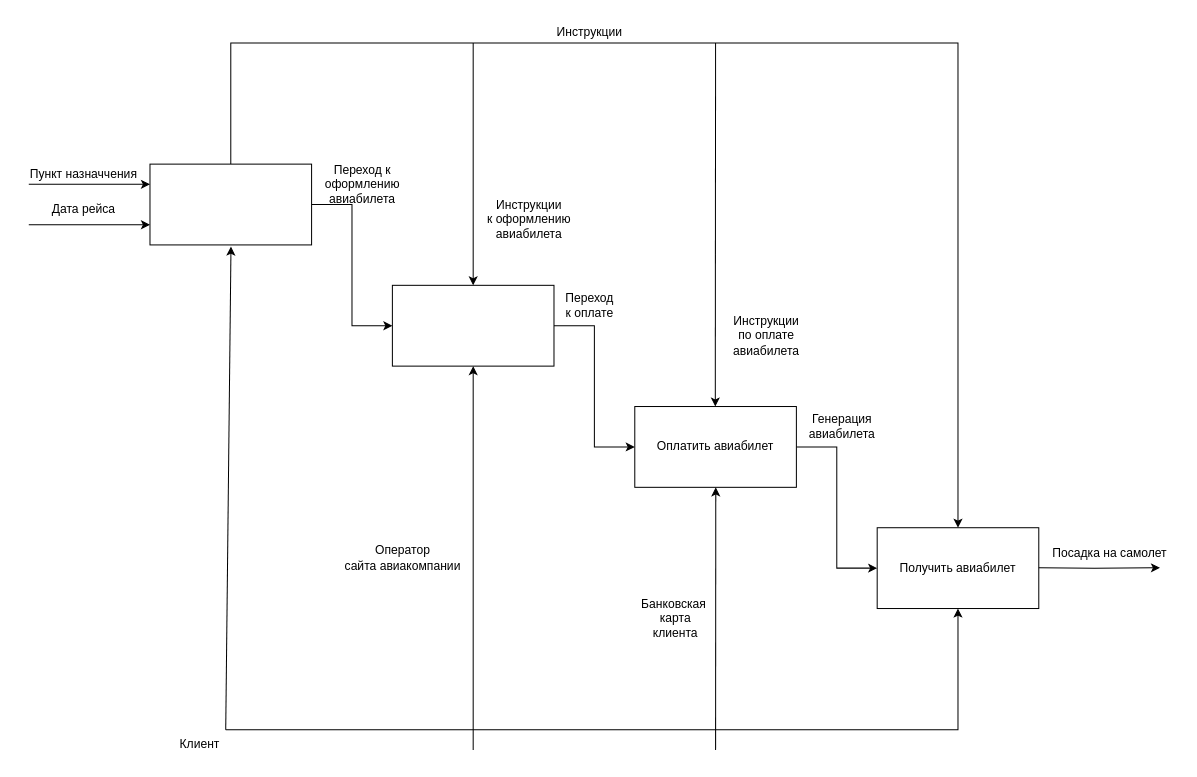
Some shapes in this 1197 by 777 pixel diagram are drawn without their labels. The shapes that lost their labels are listed below. From the top down, each one's centre as x and y in pixels, then its label:
At (x=230, y=204): "Выбрать рейс".
At (x=472, y=325): "Оформить авиабилет".
